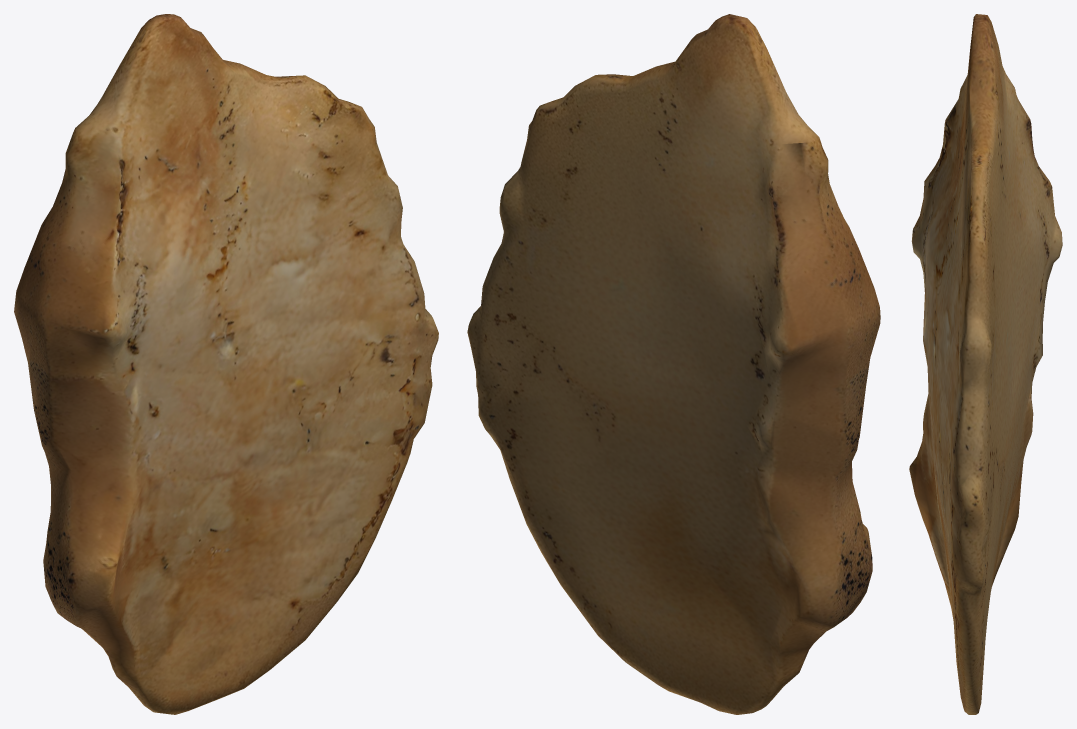
The model's file is Scraper.fbx.
The picture shows the model from 3 angles, left to right: view 1: azimuth 30°, elevation 25°; view 2: azimuth 150°, elevation 25°; view 3: azimuth 270°, elevation 25°; orthographic projection. The views are drawn at different scales.
Visible parts, largest first — view 1: Scraper(Baked).001; view 2: Scraper(Baked).001; view 3: Scraper(Baked).001.
Part boxes in pixels (x1,y1,x2,y2): Scraper(Baked).001: (14, 14, 438, 714); Scraper(Baked).001: (467, 14, 880, 714); Scraper(Baked).001: (909, 14, 1062, 714).
Bounding box in the file's own units: 3.05 × 5.03 × 1.04.
Materials: 1 (1 with a texture image).
